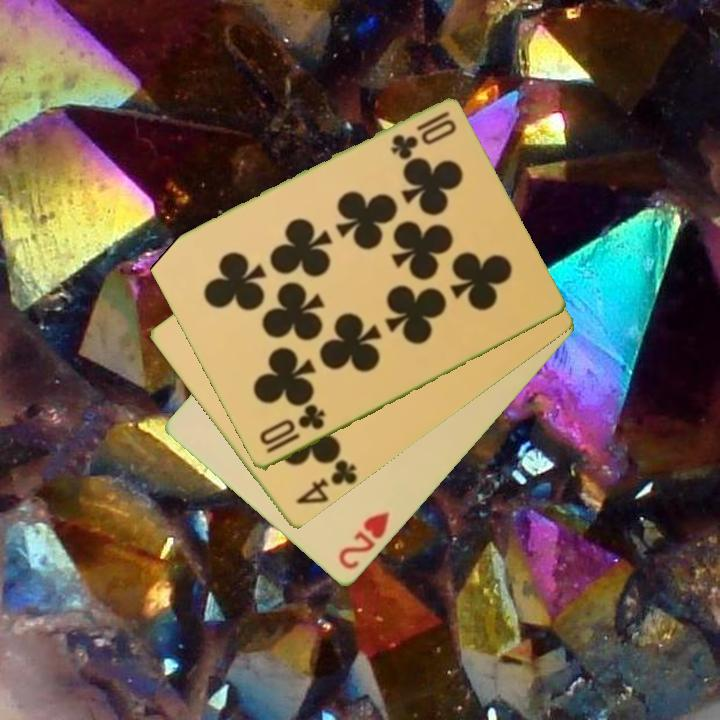10c: (255, 402, 328, 457), (387, 108, 459, 162)
2h: (335, 508, 393, 573)
4c: (292, 456, 360, 508)
